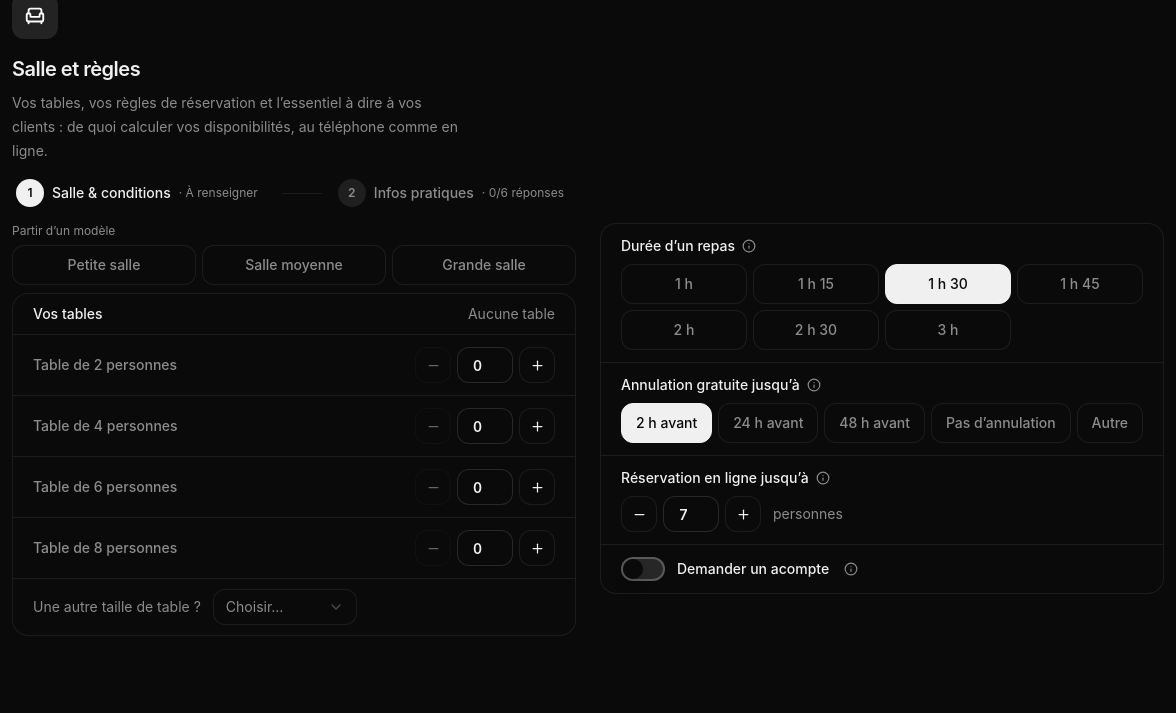
Test: enregistre tables et règles au « Continuer » puis ouvre l’essentiel
Expected: the button "1 Salle & conditions · À renseigner" is shown, [12, 175, 270, 211]
Click the button "Petite salle".
click(104, 265)  # box [12, 245, 196, 285]
(page scrolled)
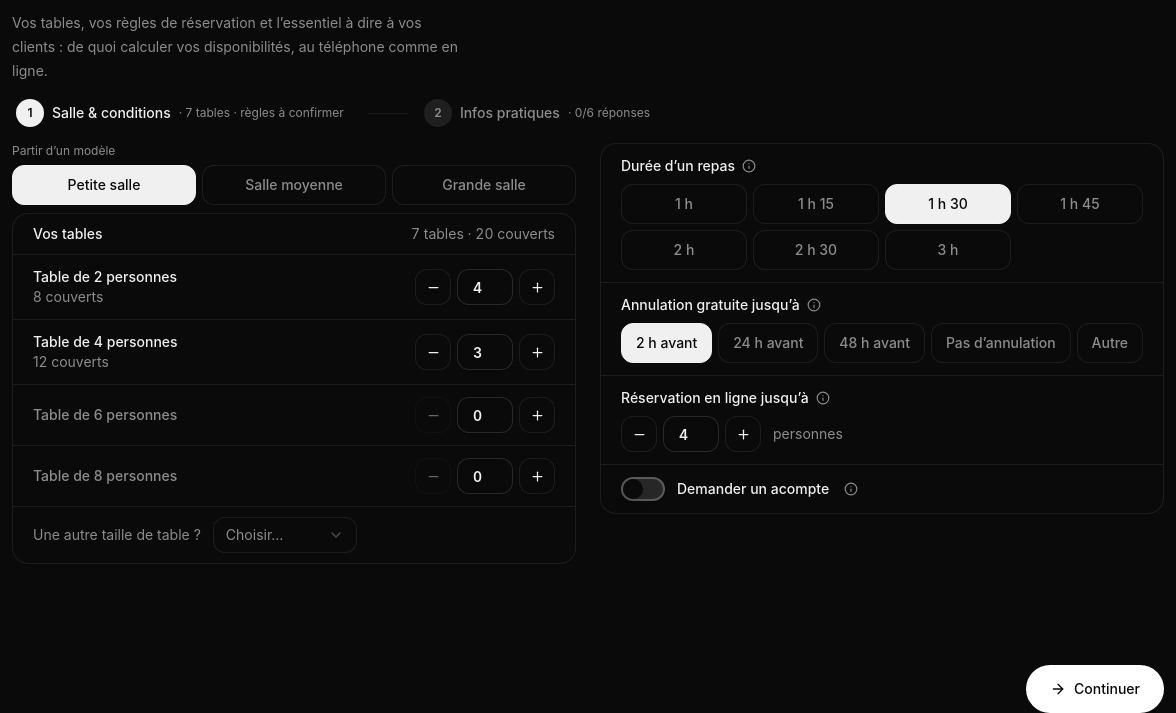
Click the button "Continuer".
click(1095, 689)  # box [1026, 665, 1164, 712]
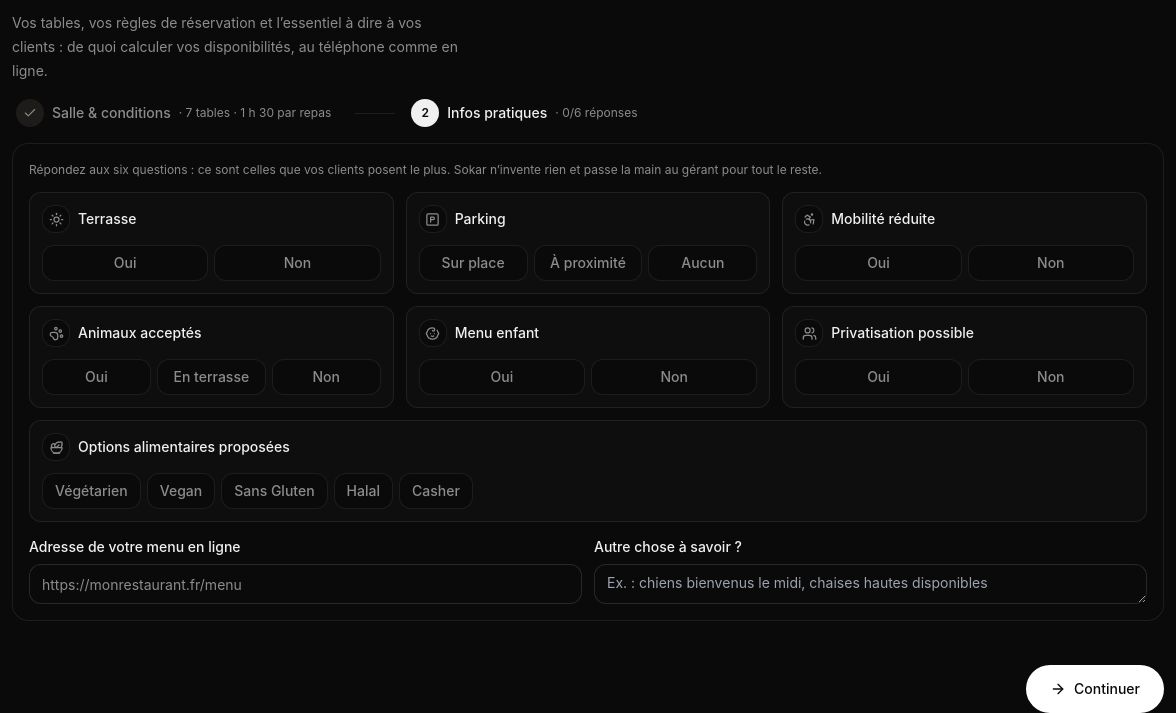
Expected: the element named "Parking" is shown, [419, 245, 757, 281]
